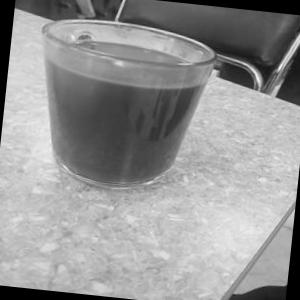coffee: (23, 6, 230, 213)
